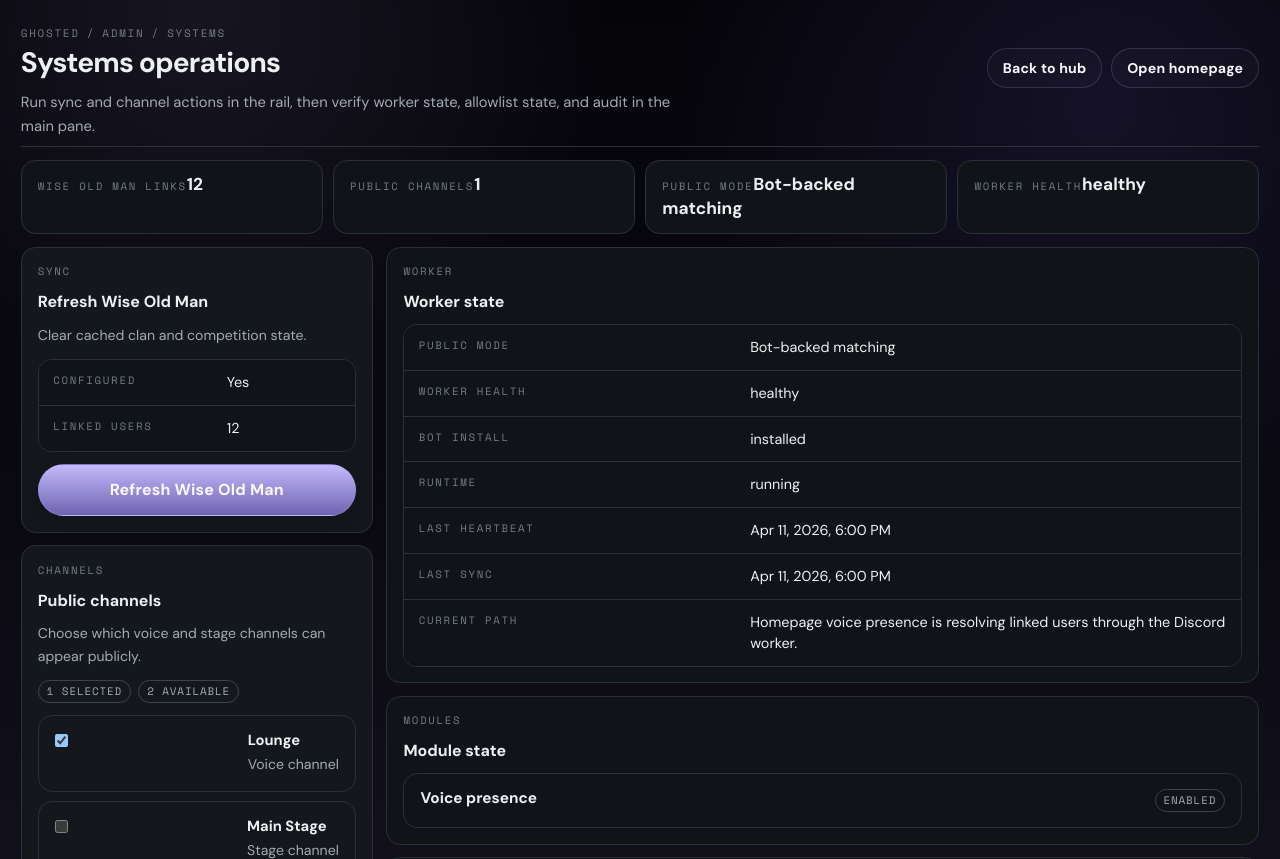
Test: AdminSystemsPage › renders worker status and saves the selected channel allowlist
The width and height of the screenshot is (1280, 859).
Expected: the heading "Systems operations" is shown, [21,44,280,81]
Expected: the text "Bot-backed matching" in the row of "Wise Old Man links" is shown, [662,173,855,219]
Click the checkbox labelled "Main Stage Stage channel" at (61, 826), box [55,820,68,833]
(page scrolled)
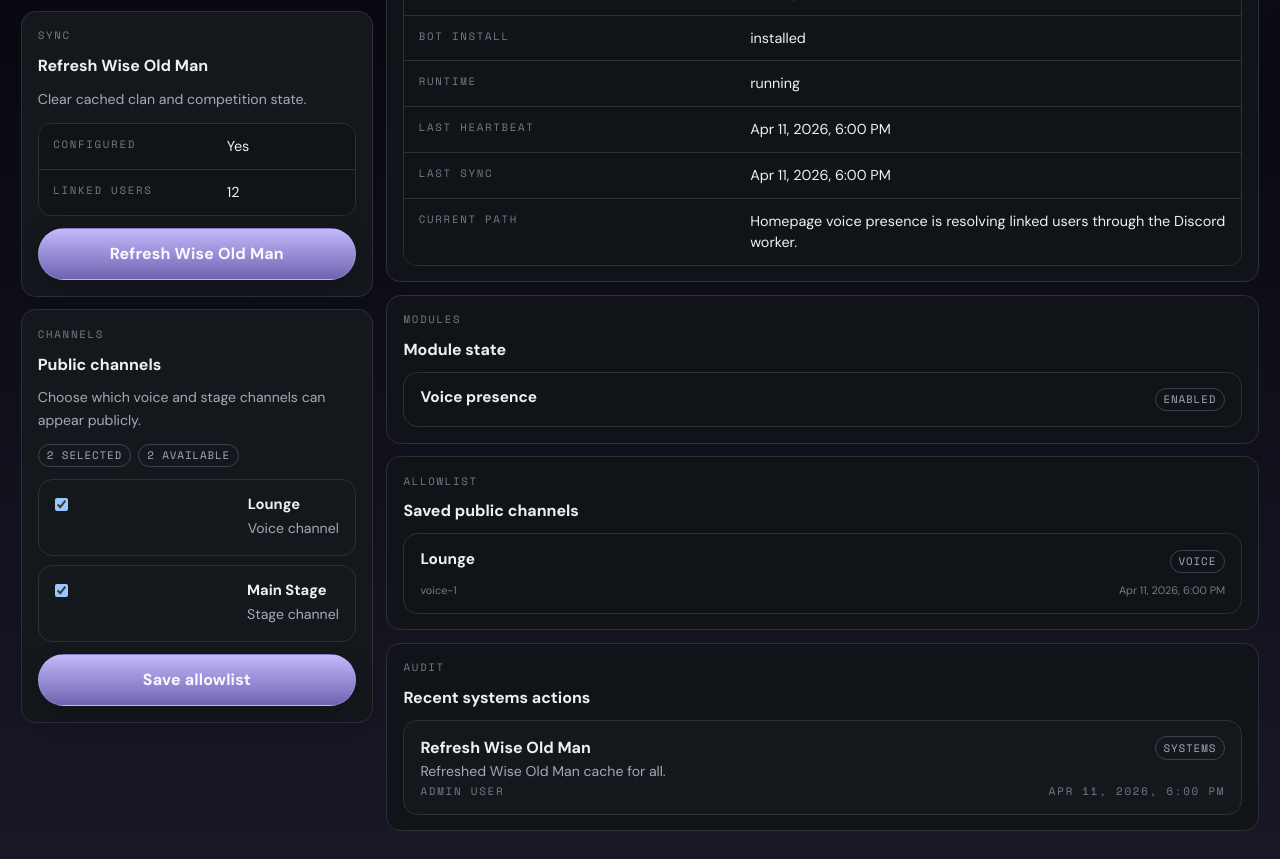
Click the button "Save allowlist" at (197, 680), box [38,654,356,707]
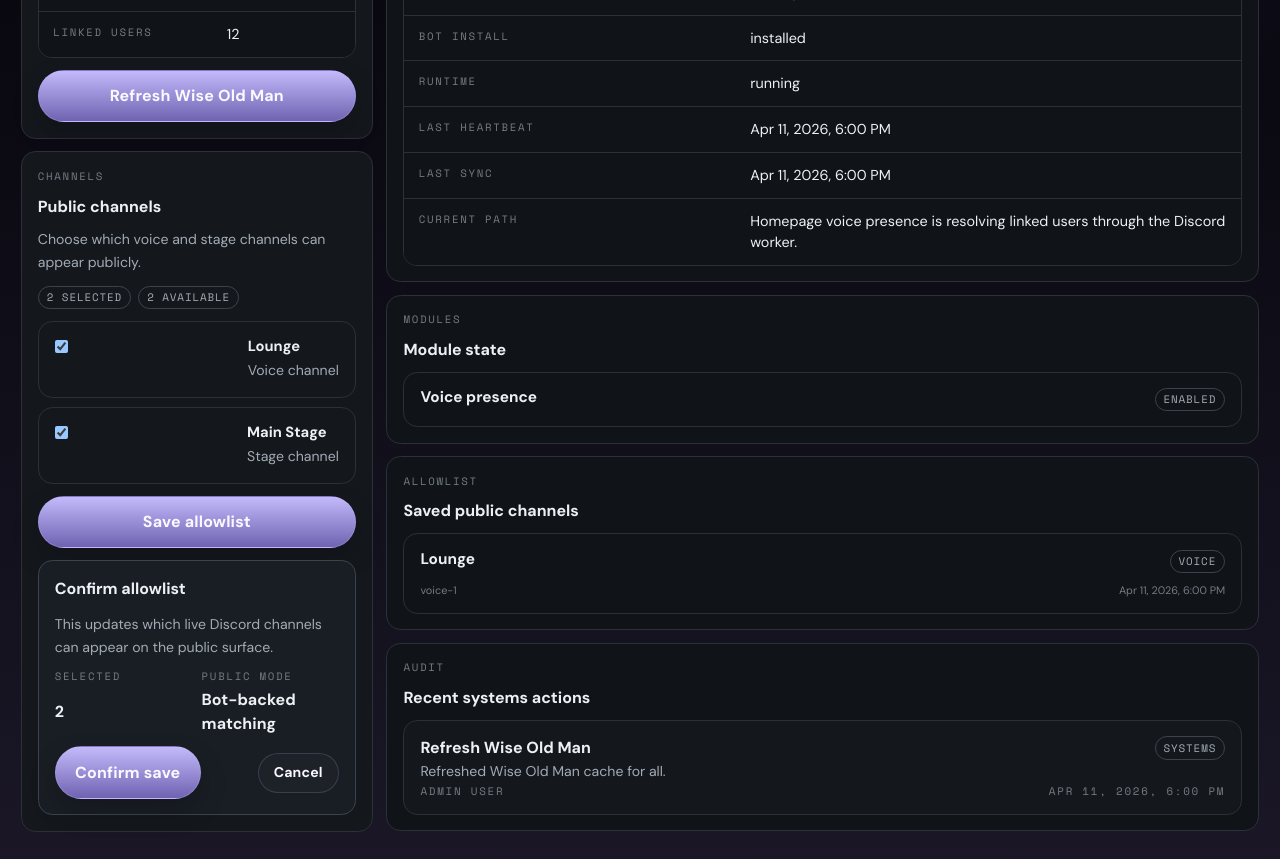
Now the text "Confirm allowlist" is shown, box [55,577,186,598]
Click the button "Confirm save" at (128, 772), box [55,746,201,799]
(page scrolled)
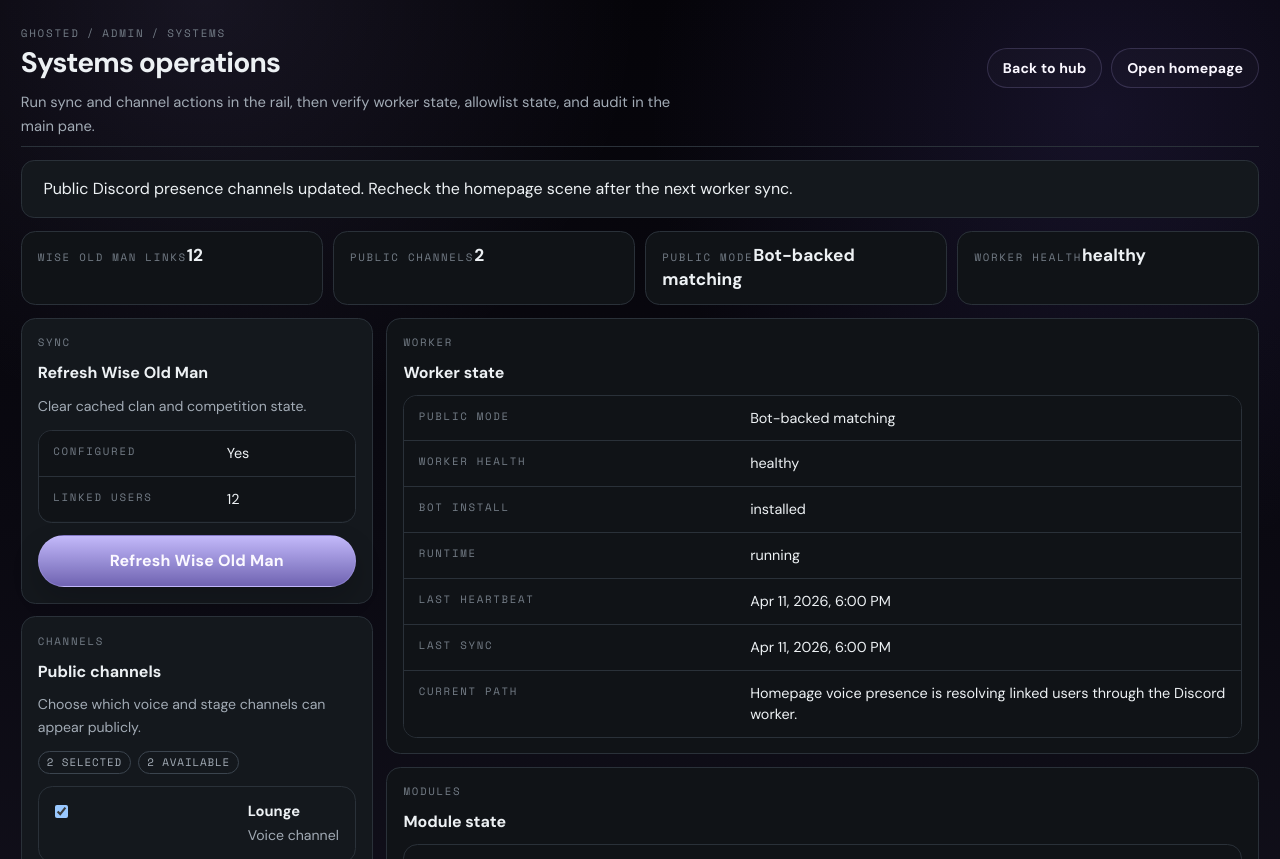
Now the text "Public Discord presence channels updated. Recheck the homepage scene after the next worker sync." is shown, box [43,178,792,199]
